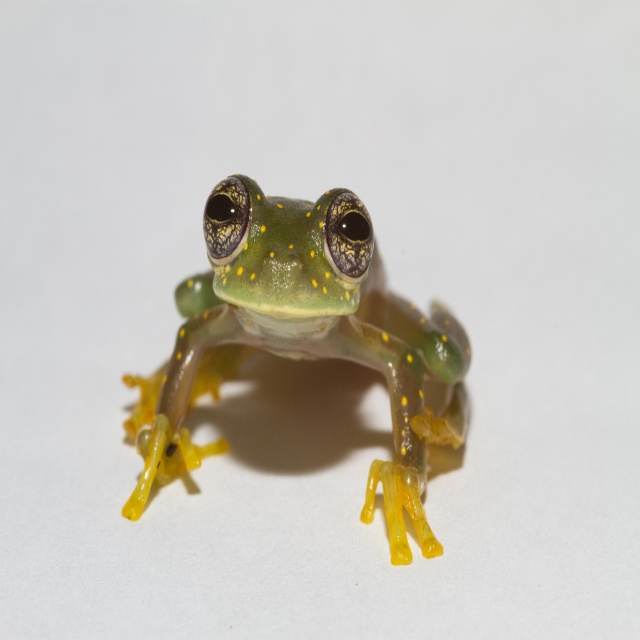Frog: (120, 170, 470, 563)
